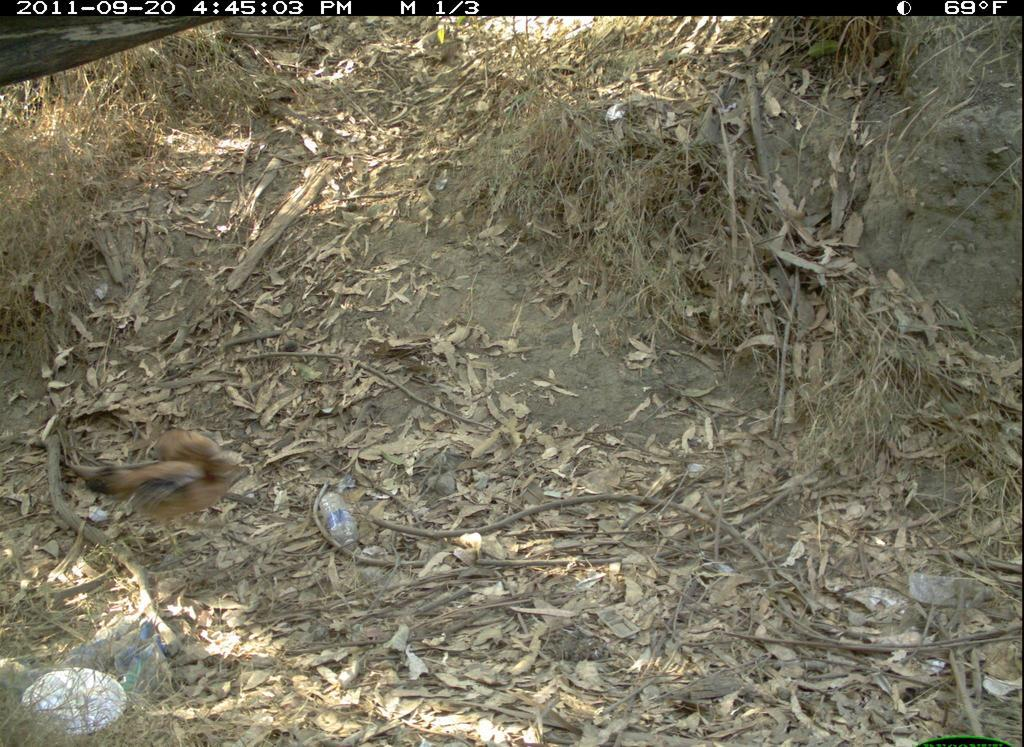bird: (62, 420, 258, 542)
